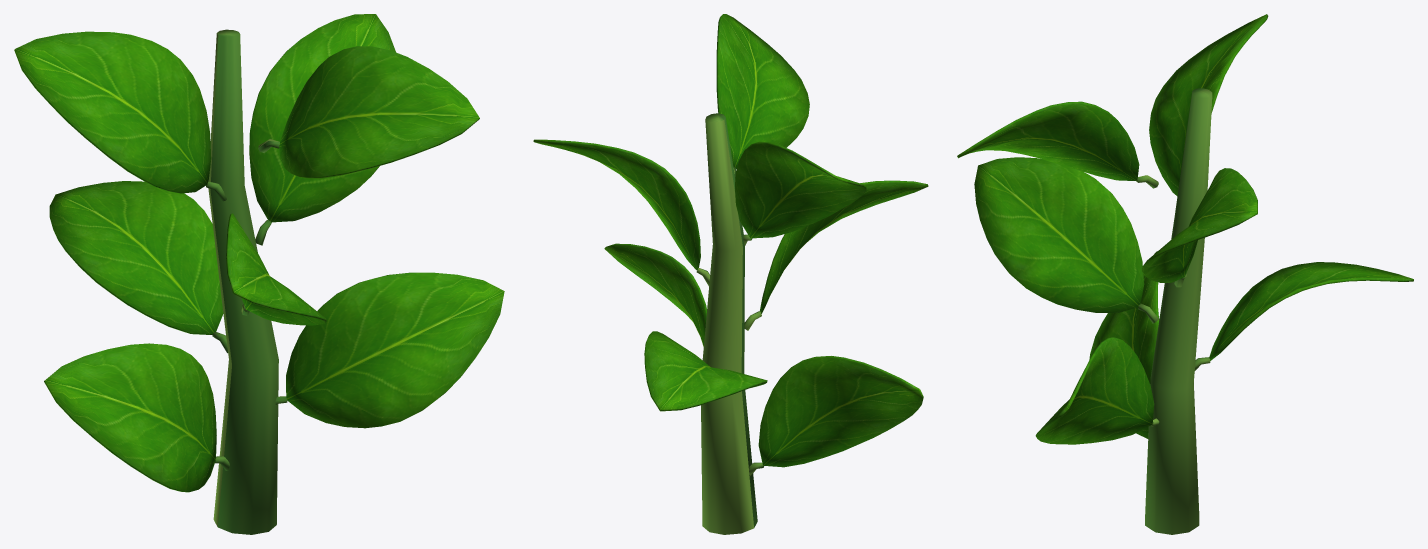
Rendered from NP_Jasmine_Young_LOD1.fbx.
The picture shows the model from 3 angles, left to right: view 1: azimuth 30°, elevation 25°; view 2: azimuth 150°, elevation 25°; view 3: azimuth 270°, elevation 25°; orthographic projection. The views are drawn at different scales.
Parts seen in each view (by area): view 1: NP_Jasmine_Young; view 2: NP_Jasmine_Young; view 3: NP_Jasmine_Young.
Part boxes in pixels (left/top/right/bottom): NP_Jasmine_Young: left=14, top=14, right=504, bottom=534; NP_Jasmine_Young: left=533, top=14, right=928, bottom=534; NP_Jasmine_Young: left=957, top=14, right=1413, bottom=534.
Bounding box in the file's own units: 28.29 × 33.16 × 30.37.
